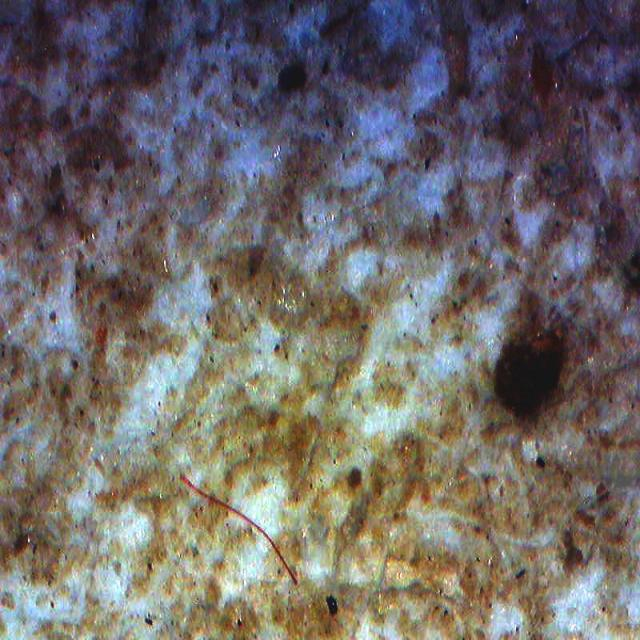microplastic: (180, 474, 298, 586)
